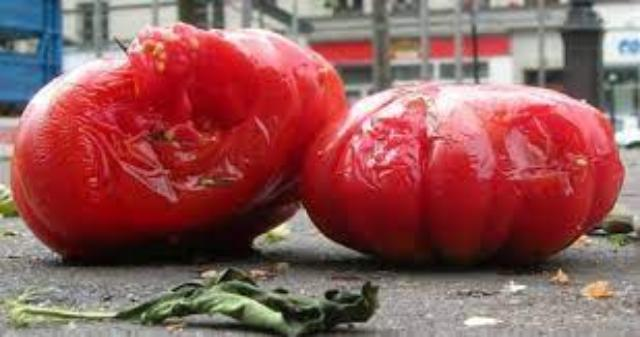defect: (9, 23, 348, 260), (297, 77, 626, 271)
